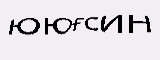В: (59, 27, 78, 49)
Г: (76, 30, 95, 54)
И: (50, 24, 66, 44)
Р: (96, 30, 121, 58)
Я: (39, 19, 53, 42)
